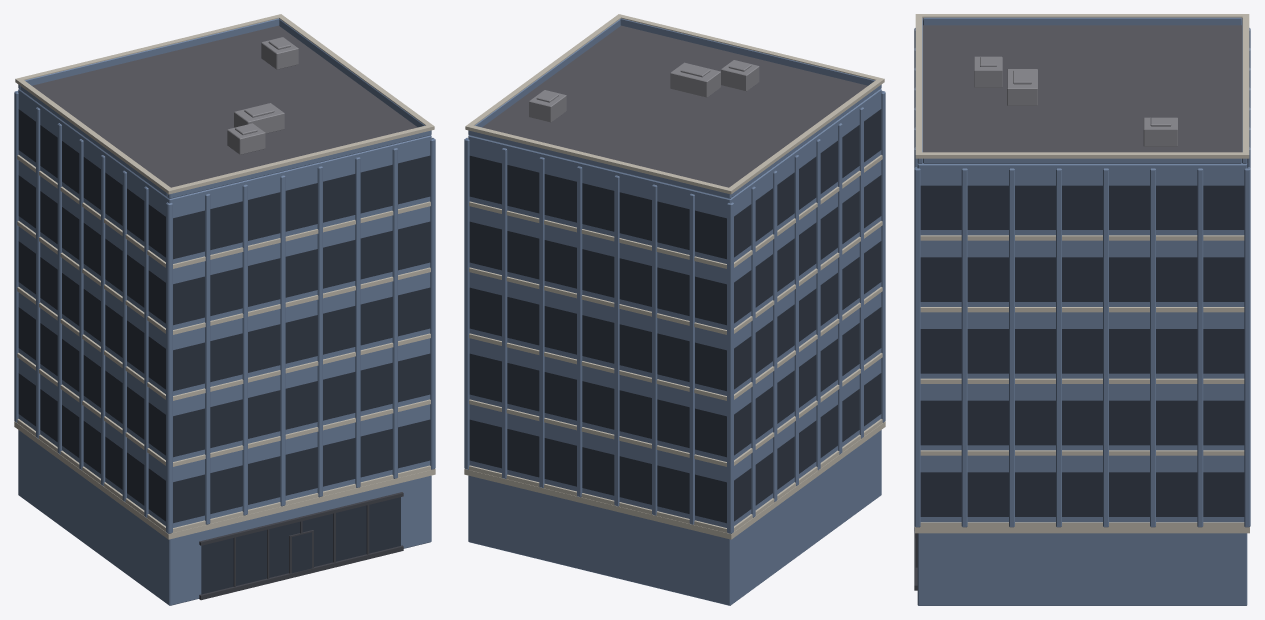
Rendered from Office.fbx.
3 views of the same model, side by side, from view 1: azimuth 30°, elevation 25°; view 2: azimuth 150°, elevation 25°; view 3: azimuth 270°, elevation 25° (orthographic). The views are drawn at different scales.
Parts seen in each view (by area): view 1: Office_Body, Office_Windows, Office_Roof, Office_Trim, Office_Frame, Office_RoofUnits, Office_Door; view 2: Office_Body, Office_Windows, Office_Roof, Office_Trim, Office_RoofUnits; view 3: Office_Body, Office_Windows, Office_Roof, Office_Trim, Office_RoofUnits.
Boxes of the visible parts, x1,y1,x2,y2 form: Office_Body: (14,18,435,605); Office_Windows: (18,109,430,594); Office_Roof: (32,25,417,187); Office_Trim: (14,14,435,539); Office_Frame: (199,492,403,600); Office_RoofUnits: (227,37,298,154); Office_Door: (292,532,311,573); Office_Body: (464,18,885,605); Office_Windows: (469,109,881,523); Office_Roof: (482,25,867,187); Office_Trim: (464,14,885,539); Office_RoofUnits: (529,60,759,122); Office_Body: (914,17,1250,605); Office_Windows: (917,167,1247,516); Office_Roof: (923,25,1241,152); Office_Trim: (915,14,1249,533); Office_RoofUnits: (974,56,1177,146).
Bounding box in the file's own units: 51 × 77.7 × 51.
